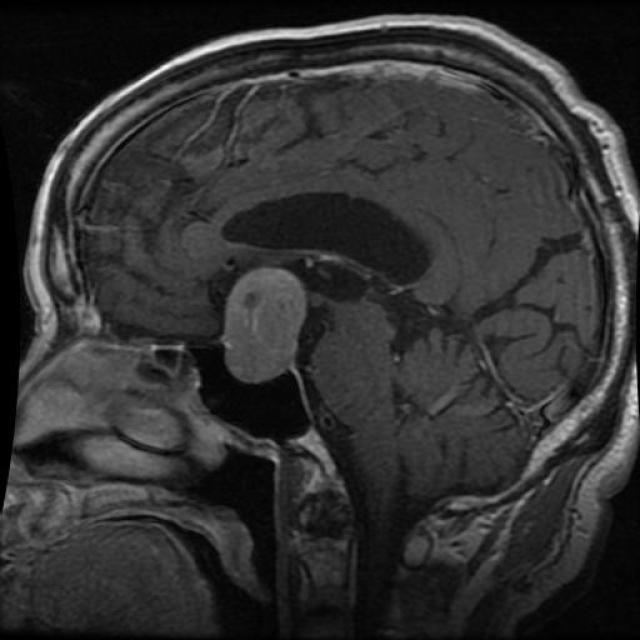pituitary: (212, 256, 308, 393)
